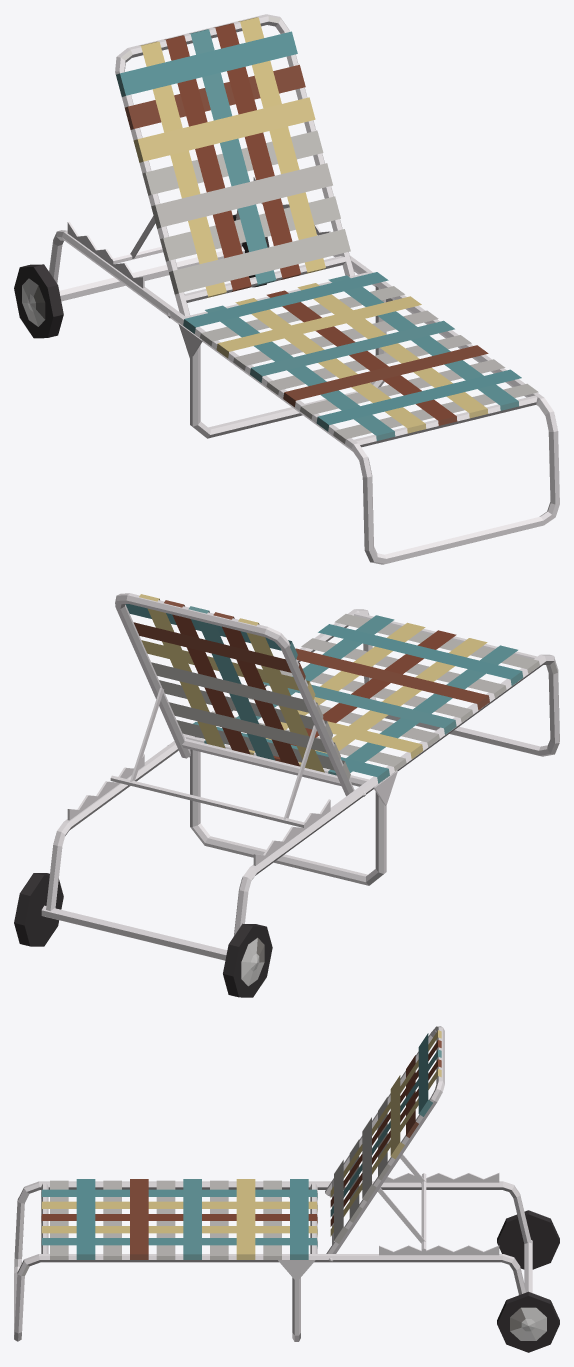
Rendered from pool-lounger-9c6e46.glb.
3 renders of one model, top to bottom at view 1: azimuth 30°, elevation 25°; view 2: azimuth 150°, elevation 25°; view 3: azimuth 270°, elevation 25°, orthographic. The views are drawn at different scales.
Parts seen in each view (by area): view 1: backrest-mesh, lounger-frame, wheel-l-mesh; view 2: lounger-frame, backrest-mesh, wheel-l-mesh, wheel-r-mesh; view 3: lounger-frame, backrest-mesh, wheel-r-mesh, wheel-l-mesh.
Boxes of the visible parts, box(x1,y1,x2,y2) form: backrest-mesh: box(110, 14, 354, 316); lounger-frame: box(49, 176, 559, 564); wheel-l-mesh: box(14, 264, 63, 338); lounger-frame: box(41, 609, 559, 960); backrest-mesh: box(110, 593, 354, 828); wheel-l-mesh: box(223, 923, 272, 997); wheel-r-mesh: box(14, 873, 63, 946); lounger-frame: box(14, 1173, 532, 1341); backrest-mesh: box(325, 1026, 444, 1253); wheel-r-mesh: box(497, 1291, 559, 1352); wheel-l-mesh: box(497, 1210, 559, 1269).
Size of the model in its own units: 0.734 by 0.9908 by 1.91.
